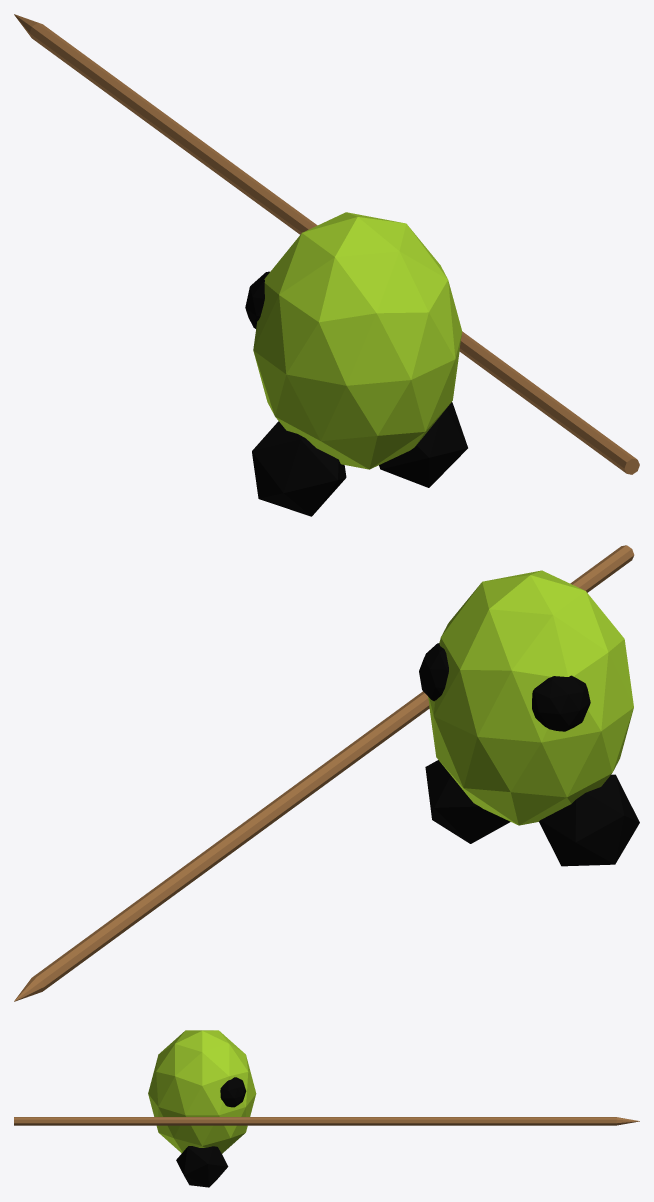
The model's file is stab.f0003.glb.
3 renders of one model, top to bottom at view 1: azimuth 30°, elevation 25°; view 2: azimuth 150°, elevation 25°; view 3: azimuth 270°, elevation 25°, orthographic. The views are drawn at different scales.
Parts seen in each view (by area): view 1: Body.001; view 2: Body.001; view 3: Body.001.
Boxes of the visible parts, <box> form: Body.001: <box>14,14,639,516</box>; Body.001: <box>14,545,639,1001</box>; Body.001: <box>14,1030,639,1187</box>.
Bounding box in the file's own units: 2.17 × 2.85 × 11.56.
Materials: 1 (1 with a texture image).
